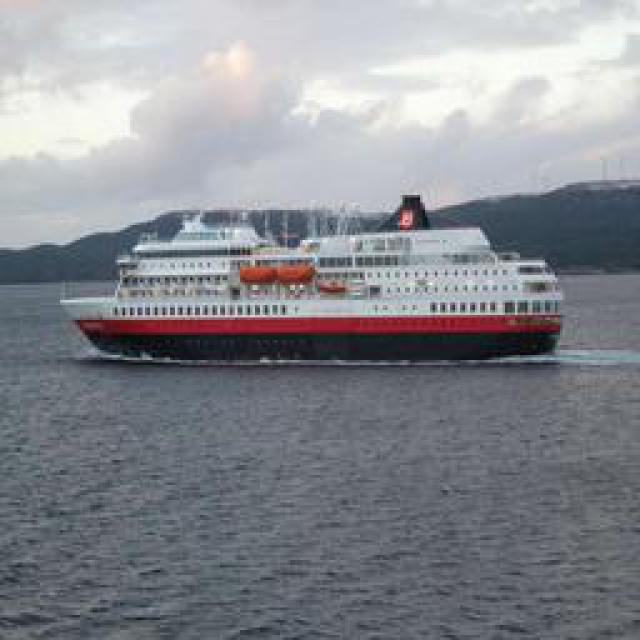Ship: (66, 198, 569, 366)
